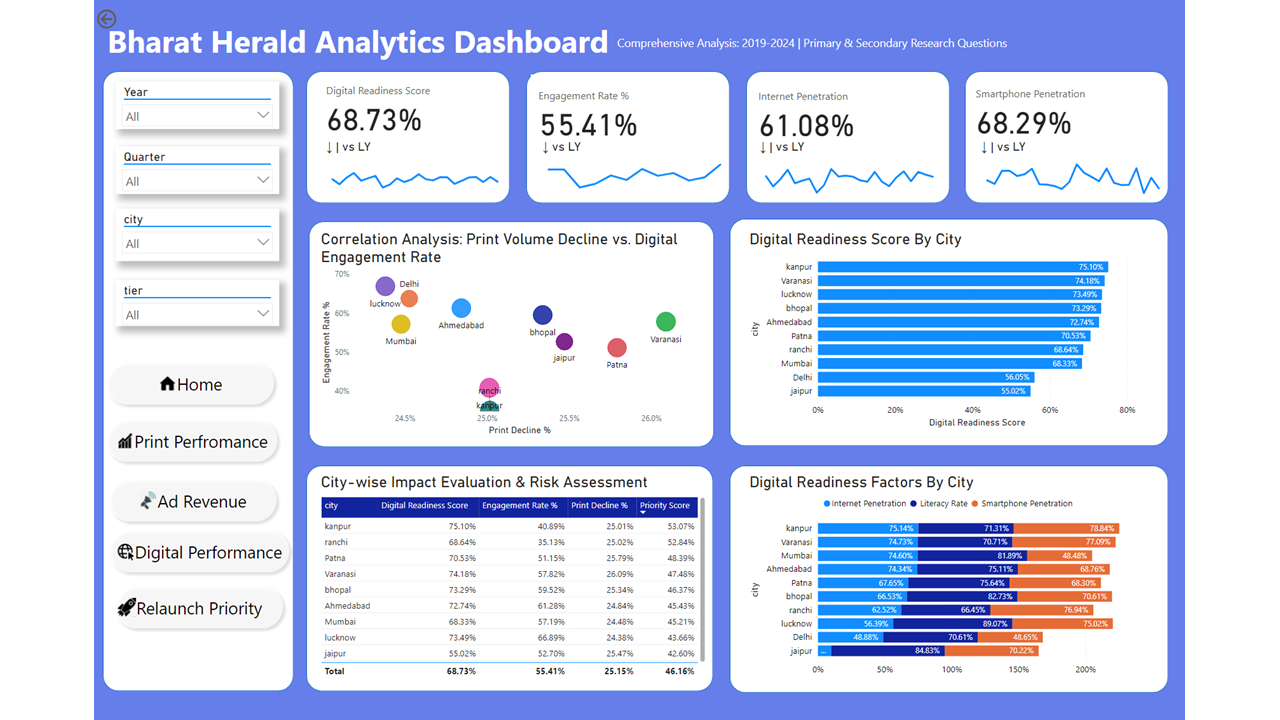

What the dashboard file says about the page in this screenshot:
{"tool":"powerbi","page":{"name":"Relaunch Prioritization","canvas":[1717,1112],"ordinal":4},"visuals":[{"type":"textbox","box":[15.9,15.9,800,86.4],"z":0},{"type":"shape","box":[15,102.5,300,975],"z":1000},{"type":"shape","box":[335,102.5,320,207.5],"z":2000},{"type":"shape","box":[337.5,337.5,637.5,355],"z":3000},{"type":"shape","box":[1000,335,690,357.5],"z":4000},{"type":"shape","box":[335,722.5,640,355],"z":5000},{"type":"textbox","box":[817.5,40,652.5,37.5],"z":6000},{"type":"shape","box":[680,102.5,320,207.5],"z":7000},{"type":"shape","box":[1027.5,102.5,320,207.5],"z":8000},{"type":"shape","box":[1370,102.5,320,207.5],"z":9000},{"type":"actionButton","box":[0,0,100,40],"z":10000},{"type":"cardVisual","fields":{"Data":["city_readiness.Digital Readiness %"]},"box":[347.5,102.5,210,122.5],"z":11000},{"type":"slicer","title":"Year","fields":{"Values":["Calendar_Bridge.Year"]},"box":[35,117.5,257.5,75],"z":12000},{"type":"cardVisual","fields":{"Data":["digital_pilot.Engagement Rate %"]},"box":[682.5,102.5,207.5,137.5],"z":13000},{"type":"lineChart","fields":{"Category":["Calendar_Bridge.Date.Variation.Date Hierarchy.Year","Calendar_Bridge.Date.Variation.Date Hierarchy.Quarter","Calendar_Bridge.Date.Variation.Date Hierarchy.Month","Calendar_Bridge.Date.Variation.Date Hierarchy.Day"],"Y":["city_readiness.Digital Readiness Score"]},"box":[360,207.5,290,97.5],"z":14000},{"type":"lineChart","fields":{"Category":["digital_pilot.Launch Month "],"Y":["digital_pilot.Engagement Rate %"]},"box":[700,207.5,300,97.5],"z":15000},{"type":"cardVisual","fields":{"Data":["city_readiness.Avg Internet Penetration"]},"box":[1028.3,111.7,248.3,120],"z":16000},{"type":"lineChart","fields":{"Category":["Calendar_Bridge.Date.Variation.Date Hierarchy.Year","Calendar_Bridge.Date.Variation.Date Hierarchy.Quarter","Calendar_Bridge.Date.Variation.Date Hierarchy.Month","Calendar_Bridge.Date.Variation.Date Hierarchy.Day"],"Y":["city_readiness.Avg Internet Penetration"]},"box":[1042.5,207.5,292.5,100],"z":17000},{"type":"cardVisual","fields":{"Data":["city_readiness.Avg Smartphone Penetration"]},"box":[1370,112.5,250,112.5],"z":18000},{"type":"lineChart","fields":{"Category":["Calendar_Bridge.Date.Variation.Date Hierarchy.Year","Calendar_Bridge.Date.Variation.Date Hierarchy.Quarter","Calendar_Bridge.Date.Variation.Date Hierarchy.Month","Calendar_Bridge.Date.Variation.Date Hierarchy.Day"],"Y":["city_readiness.Avg Smartphone Penetration"]},"box":[1390,207.5,300,100],"z":19000},{"type":"slicer","title":"Year","fields":{"Values":["Calendar_Bridge.Quarter"]},"box":[35,220,257.5,75],"z":20000},{"type":"slicer","title":"Year","fields":{"Values":["city.city"]},"box":[35,317.5,257.5,82.5],"z":21000},{"type":"slicer","title":"Year","fields":{"Values":["city.tier"]},"box":[35,430,257.5,72.5],"z":22000},{"type":"shape","box":[1000,722.5,690,357.5],"z":23000},{"type":"scatterChart","title":"Correlation Analysis: Print Volume Decline vs. Digital Engagement Rate","fields":{"X":["print_sales (2).Print Decline %"],"Y":["digital_pilot.Engagement Rate %"],"Size":["city_readiness.Digital Readiness Score"],"Series":["city.city"]},"box":[352.5,352.5,597.5,327.5],"z":24000},{"type":"barChart","title":"Digital Readiness Score By City","fields":{"Category":["city.city"],"Y":["city_readiness.Digital Readiness Score"]},"box":[1027.5,352.5,632.5,315],"z":25000},{"type":"tableEx","title":"City-wise Impact Evaluation & Risk Assessment","fields":{"Values":["city.city","city_readiness.Digital Readiness Score","digital_pilot.Engagement Rate %","print_sales (2).Print Decline %","city_readiness.Priority Score"]},"box":[352.5,735,615,327.5],"z":26000},{"type":"barChart","title":"Digital Readiness Factors By City","fields":{"Category":["city.city"],"Y":["city_readiness.Avg Internet Penetration","city_readiness.Avg Literacy Rate","city_readiness.Avg Smartphone Penetration"]},"box":[1027.5,735,640,327.5],"z":27000},{"type":"actionButton","box":[10,550,282.5,85],"z":28000},{"type":"actionButton","box":[10,640,287.5,85],"z":29000},{"type":"actionButton","box":[15,735,282.5,85],"z":30000},{"type":"actionButton","box":[25,902.5,282.5,85],"z":31000},{"type":"actionButton","box":[15,815,302.5,85],"z":32000}]}

Visuals, with their boxes on the page's 1717x1112 design canvas (x1, y1, x2, y2). These are canvas units, not pixel positions in the 1280x720 screenshot, which may show the page scaled, cropped or inside an application window:
textbox: box=[16, 16, 816, 102]
shape: box=[15, 102, 315, 1078]
shape: box=[335, 102, 655, 310]
shape: box=[338, 338, 975, 692]
shape: box=[1000, 335, 1690, 692]
shape: box=[335, 722, 975, 1078]
textbox: box=[818, 40, 1470, 78]
shape: box=[680, 102, 1000, 310]
shape: box=[1028, 102, 1348, 310]
shape: box=[1370, 102, 1690, 310]
actionButton: box=[0, 0, 100, 40]
cardVisual - city_readiness.Digital Readiness %: box=[348, 102, 558, 225]
"Year" slicer: box=[35, 118, 292, 192]
cardVisual - digital_pilot.Engagement Rate %: box=[682, 102, 890, 240]
lineChart - Calendar_Bridge.Date.Variation.Date Hierarchy.Year x Calendar_Bridge.Date.Variation.Date Hierarchy.Quarter: box=[360, 208, 650, 305]
lineChart - digital_pilot.Launch Month  x digital_pilot.Engagement Rate %: box=[700, 208, 1000, 305]
cardVisual - city_readiness.Avg Internet Penetration: box=[1028, 112, 1277, 232]
lineChart - Calendar_Bridge.Date.Variation.Date Hierarchy.Year x Calendar_Bridge.Date.Variation.Date Hierarchy.Quarter: box=[1042, 208, 1335, 308]
cardVisual - city_readiness.Avg Smartphone Penetration: box=[1370, 112, 1620, 225]
lineChart - Calendar_Bridge.Date.Variation.Date Hierarchy.Year x Calendar_Bridge.Date.Variation.Date Hierarchy.Quarter: box=[1390, 208, 1690, 308]
"Year" slicer: box=[35, 220, 292, 295]
"Year" slicer: box=[35, 318, 292, 400]
"Year" slicer: box=[35, 430, 292, 502]
shape: box=[1000, 722, 1690, 1080]
"Correlation Analysis: Print Volume Decline vs. Digital Engagement Rate" scatterChart: box=[352, 352, 950, 680]
"Digital Readiness Score By City" barChart: box=[1028, 352, 1660, 668]
"City-wise Impact Evaluation & Risk Assessment" tableEx: box=[352, 735, 968, 1062]
"Digital Readiness Factors By City" barChart: box=[1028, 735, 1668, 1062]
actionButton: box=[10, 550, 292, 635]
actionButton: box=[10, 640, 298, 725]
actionButton: box=[15, 735, 298, 820]
actionButton: box=[25, 902, 308, 988]
actionButton: box=[15, 815, 318, 900]
